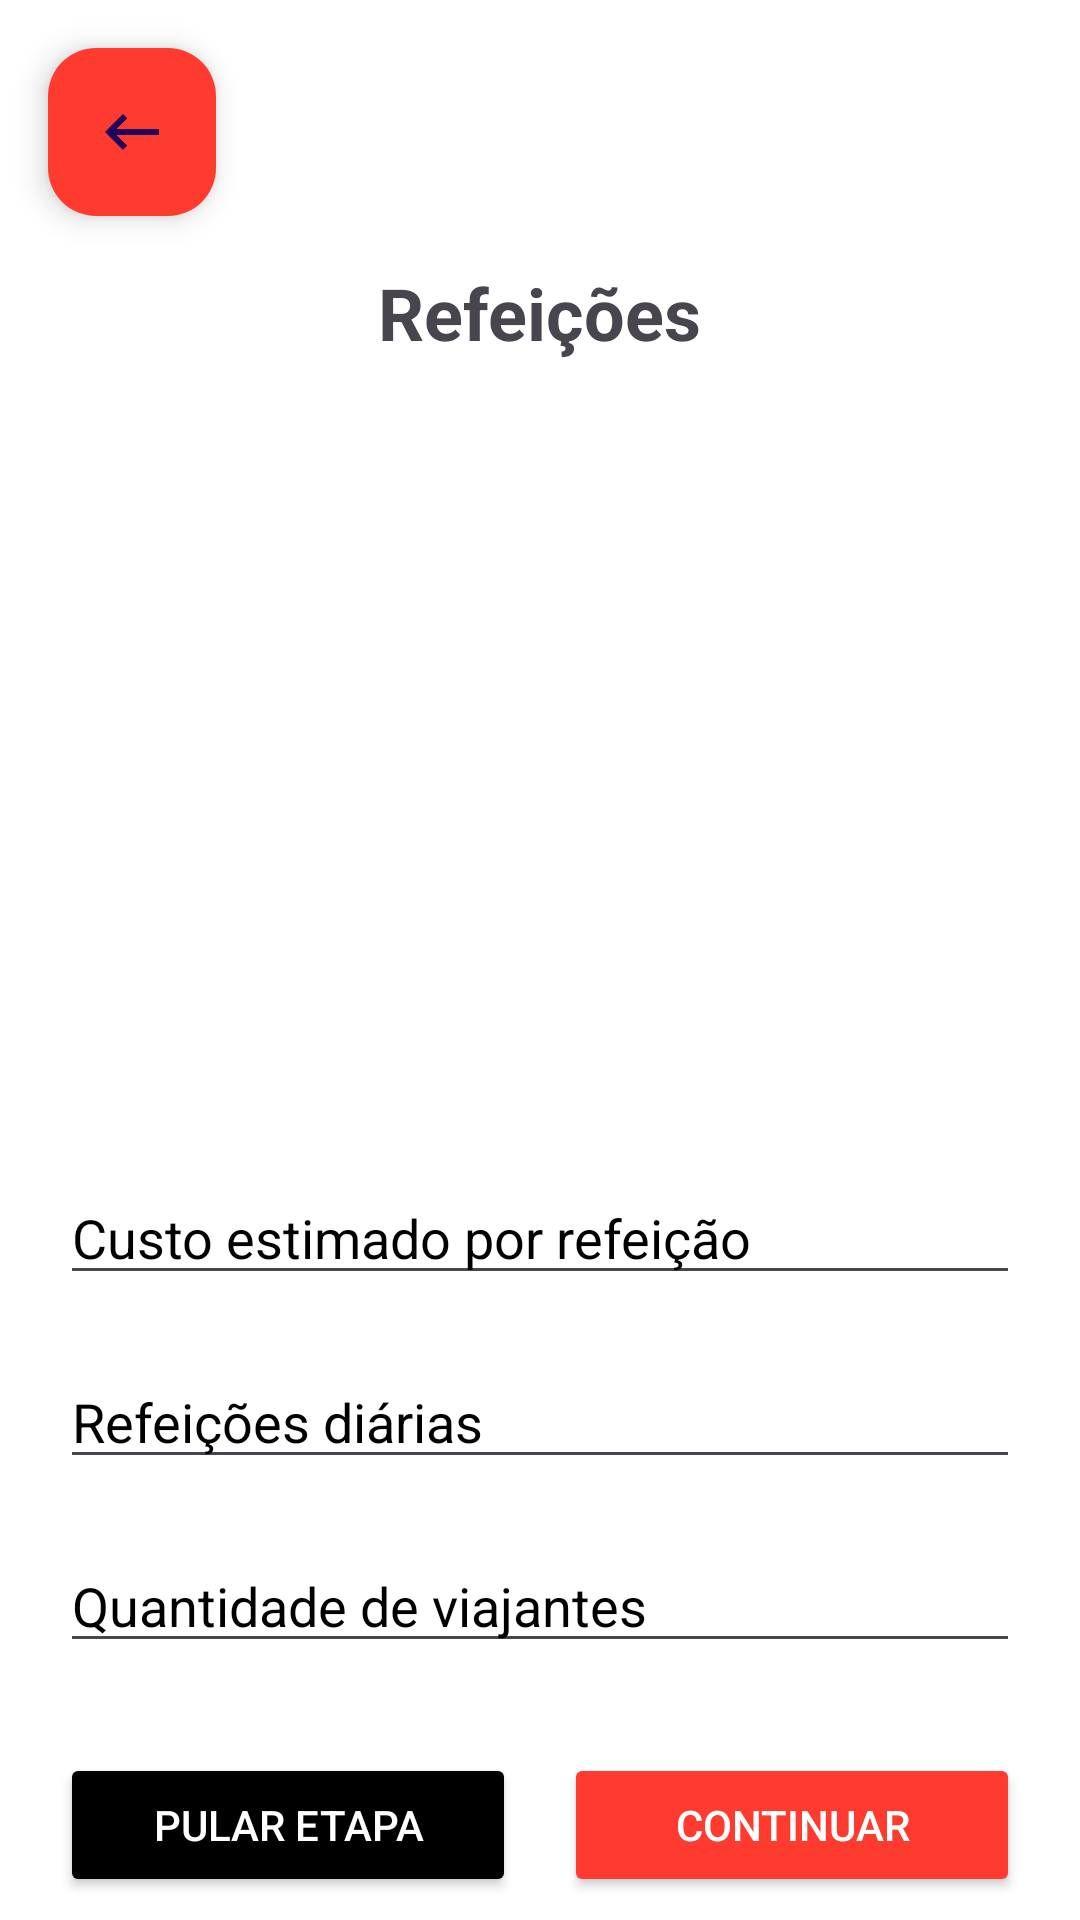

Icon click points for this 1080 × 1920 phone screenshot, format (x=x, y=y):
back arrow: (x=132, y=132)
